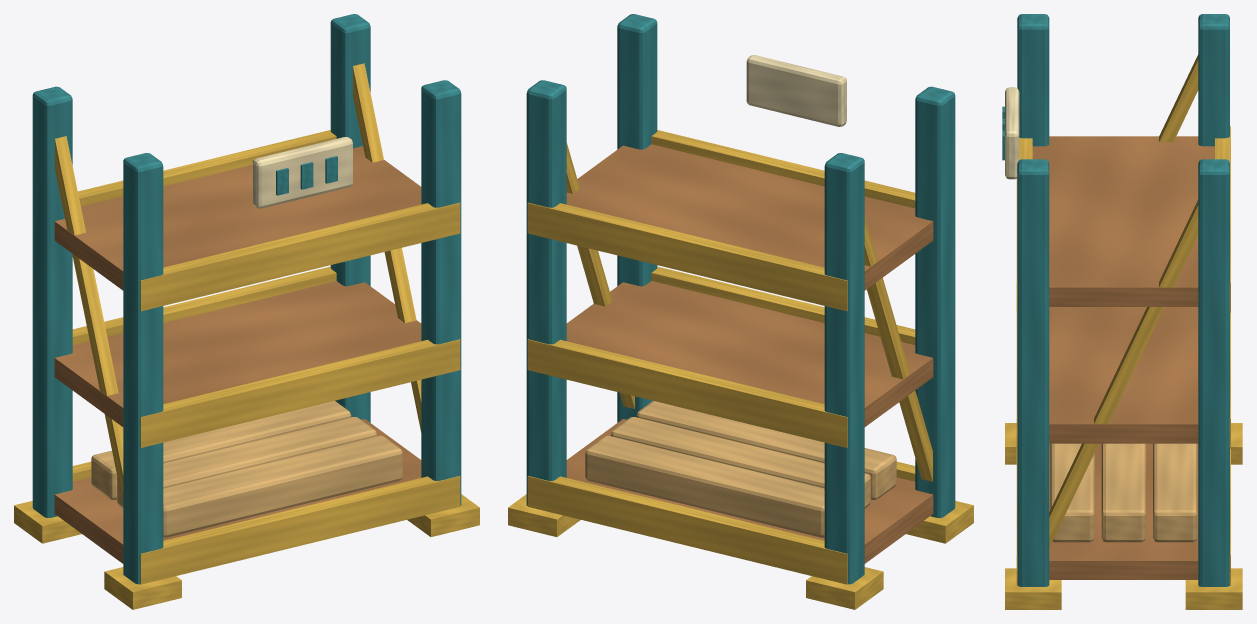
File: industry-storage-rack.glb
The picture shows the model from 3 angles, left to right: view 1: azimuth 30°, elevation 25°; view 2: azimuth 150°, elevation 25°; view 3: azimuth 270°, elevation 25°; orthographic projection.
Visible parts, largest first — view 1: industry-storage-rack-mesh; view 2: industry-storage-rack-mesh; view 3: industry-storage-rack-mesh.
Part boxes in pixels (<box>): industry-storage-rack-mesh: <box>14,14,479,609</box>; industry-storage-rack-mesh: <box>508,14,973,609</box>; industry-storage-rack-mesh: <box>1002,14,1242,609</box>.
Size of the model in its own units: 2.26 by 2.7 by 1.35.
Materials: 1 (1 with a texture image).
